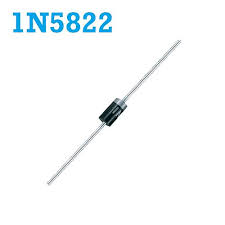diode: (92, 77, 154, 160)
